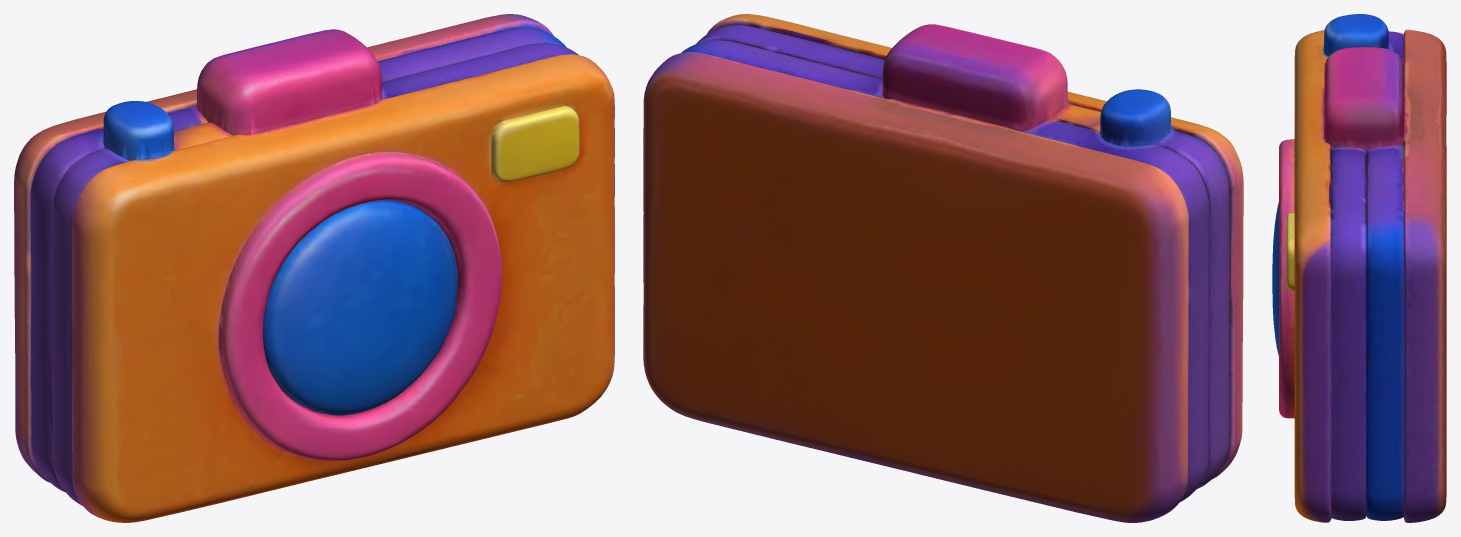
The model's file is photo__main__r2__p1.glb.
3 renders of one model, left to right at view 1: azimuth 30°, elevation 25°; view 2: azimuth 150°, elevation 25°; view 3: azimuth 270°, elevation 25°, orthographic. The views are drawn at different scales.
Parts seen in each view (by area): view 1: model; view 2: model; view 3: model.
Boxes of the visible parts, x1,y1,x2,y2 form: model: [14, 14, 614, 522]; model: [643, 14, 1243, 522]; model: [1272, 14, 1446, 522].
Bounding box in the file's own units: 1.69 × 1.23 × 0.5616.
1 material, 1 textured.
